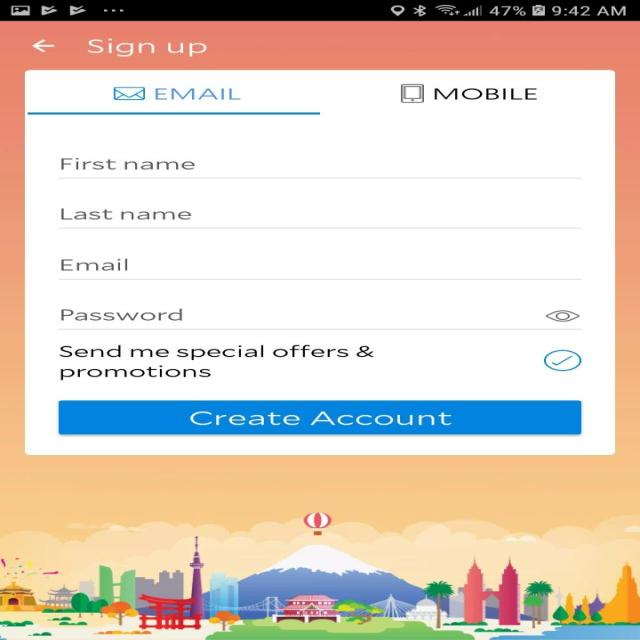EditText: (58, 258, 582, 280), (58, 308, 582, 330), (59, 157, 582, 179), (59, 208, 582, 229)
Icon: (400, 84, 424, 103), (544, 310, 580, 322), (113, 87, 145, 100), (31, 39, 55, 53)
Image: (0, 510, 639, 640)
Text: (58, 344, 374, 380), (87, 38, 206, 57), (60, 157, 194, 170), (60, 208, 192, 220), (61, 308, 182, 321), (433, 88, 537, 100), (155, 88, 241, 100), (61, 258, 128, 271)
TextButton: (58, 400, 580, 435)
